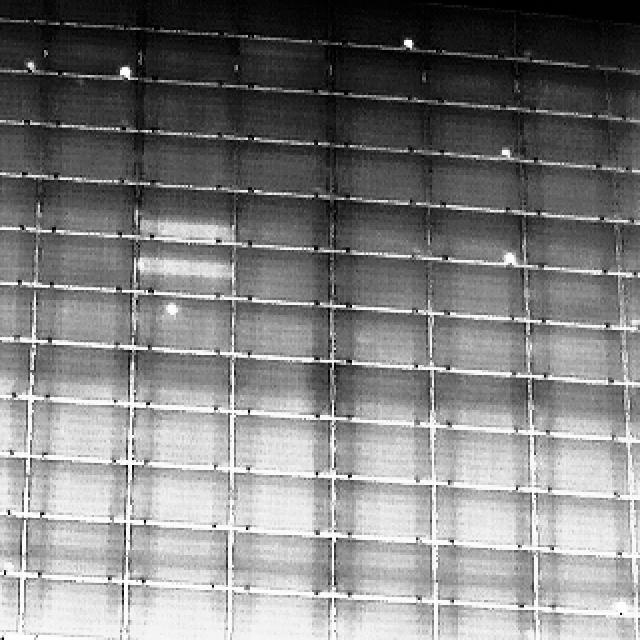Hotspots: (161, 300, 185, 324), (494, 242, 518, 265), (495, 250, 519, 269), (399, 30, 421, 48), (13, 58, 37, 74), (613, 600, 632, 620), (492, 143, 515, 159), (521, 51, 545, 66), (114, 62, 136, 78)
PV-modules: (511, 8, 638, 68), (225, 529, 334, 597), (20, 516, 126, 584), (123, 522, 230, 588), (126, 464, 234, 529), (16, 575, 122, 640), (434, 482, 538, 547), (330, 418, 435, 482), (228, 473, 334, 536), (23, 457, 129, 519), (130, 406, 234, 469), (530, 494, 632, 558), (331, 475, 433, 539), (523, 322, 625, 386), (330, 536, 435, 598), (538, 549, 638, 614), (27, 398, 130, 461), (132, 348, 235, 411), (28, 342, 131, 405), (529, 434, 632, 497), (231, 354, 332, 418), (230, 412, 332, 475), (330, 362, 432, 425), (433, 369, 533, 433), (431, 430, 535, 491), (120, 582, 228, 640), (433, 547, 534, 609), (33, 72, 141, 129), (429, 318, 529, 379), (331, 254, 432, 314), (31, 290, 132, 350), (230, 248, 331, 308), (329, 309, 430, 369), (429, 258, 528, 319), (34, 126, 138, 184), (331, 199, 433, 258), (132, 298, 232, 358), (135, 239, 236, 298), (230, 138, 332, 196), (32, 236, 134, 294), (34, 178, 136, 236), (326, 148, 426, 207), (426, 156, 527, 214), (520, 268, 619, 327), (233, 190, 331, 249), (528, 382, 626, 441), (138, 32, 243, 87), (428, 204, 524, 264), (231, 304, 328, 363), (138, 80, 240, 136), (519, 163, 617, 221), (519, 214, 617, 272), (233, 92, 334, 148), (325, 43, 426, 99), (138, 131, 238, 187), (423, 104, 523, 160), (514, 61, 612, 118), (138, 188, 236, 244), (422, 0, 520, 56), (332, 98, 426, 156), (422, 52, 520, 107), (516, 114, 612, 170), (41, 26, 140, 80), (224, 592, 332, 640), (234, 38, 330, 92), (325, 0, 425, 48), (328, 595, 434, 640), (432, 602, 536, 640), (536, 605, 638, 640), (0, 20, 48, 72), (0, 120, 42, 175), (0, 225, 36, 287), (0, 172, 38, 230), (0, 278, 36, 338), (0, 65, 38, 120), (0, 333, 32, 395), (0, 392, 30, 452), (0, 510, 26, 578), (608, 66, 640, 119), (0, 450, 26, 515), (0, 572, 24, 638), (611, 118, 640, 171), (616, 170, 640, 224), (618, 218, 640, 274), (620, 274, 640, 329), (623, 327, 640, 386), (625, 554, 640, 614), (626, 384, 640, 441), (627, 441, 640, 501)
